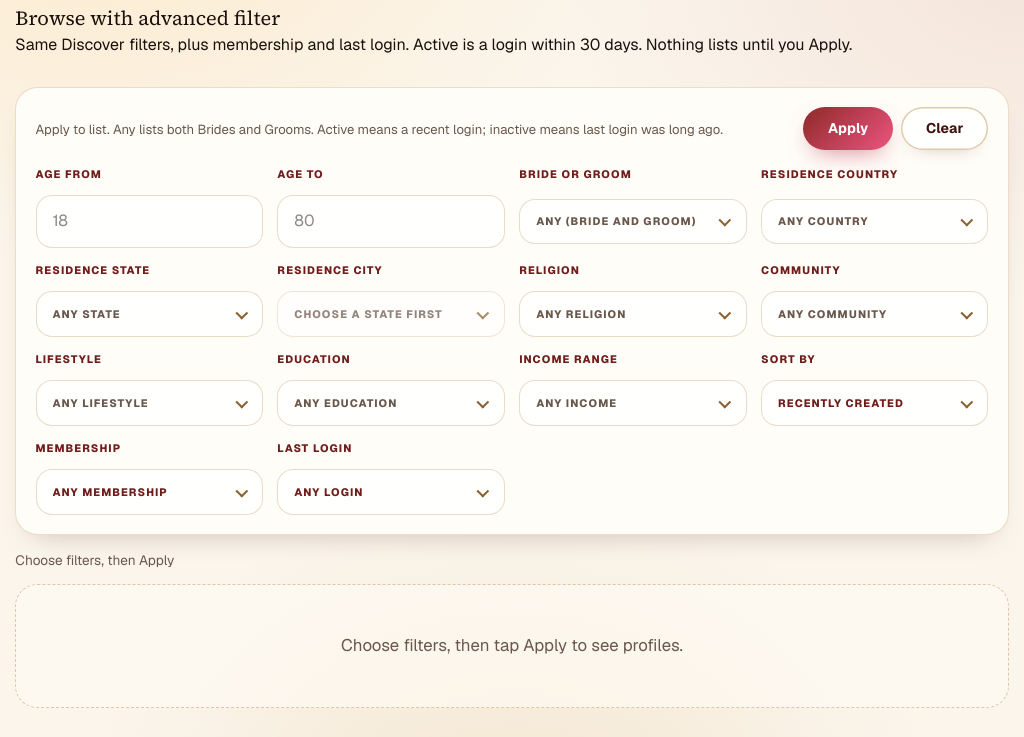
Desk look board › uses the Discover advanced page size
Click the button "Apply": (848, 128) [803, 107, 893, 150]
(page scrolled)
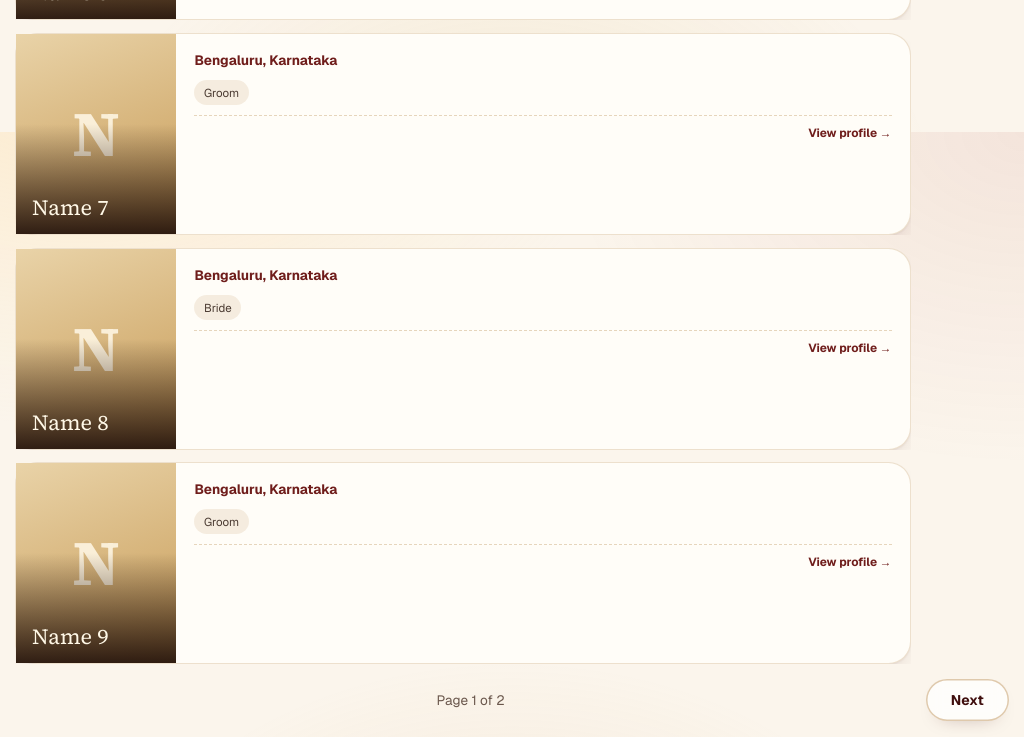
Check: the text "Name 10" is not shown
Check: the text "Page 1 of 2" is shown, box [436, 690, 505, 710]
Click the button "Next": (967, 700) [926, 679, 1009, 721]
(page scrolled)
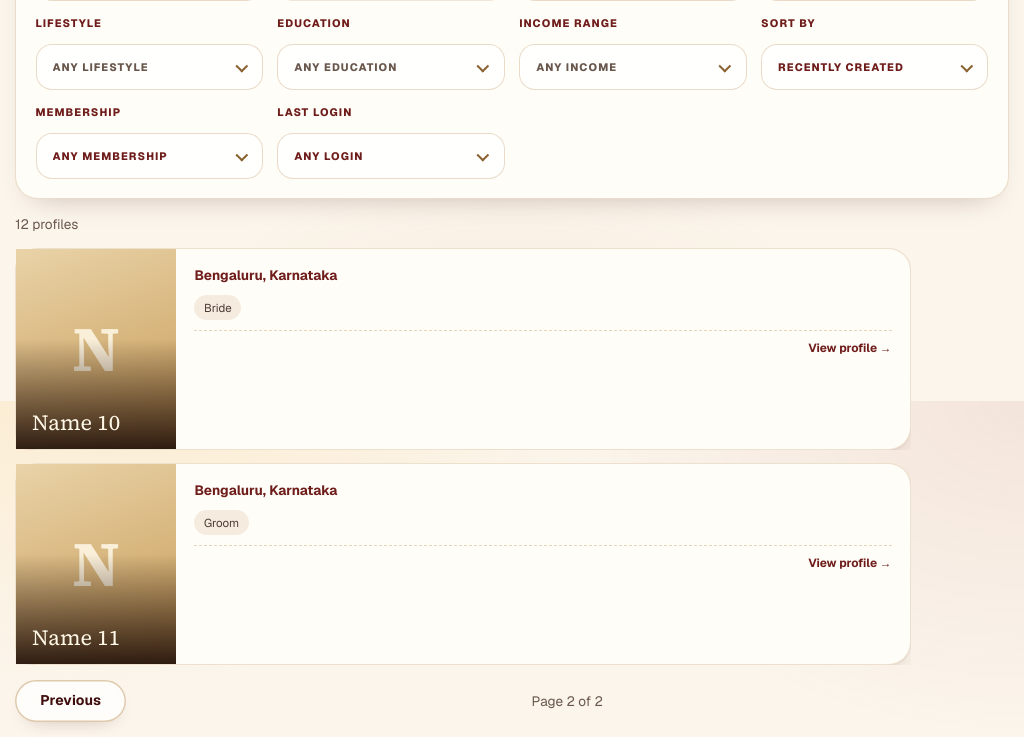
Check: the heading "Name 10" is shown, box [32, 408, 120, 437]
